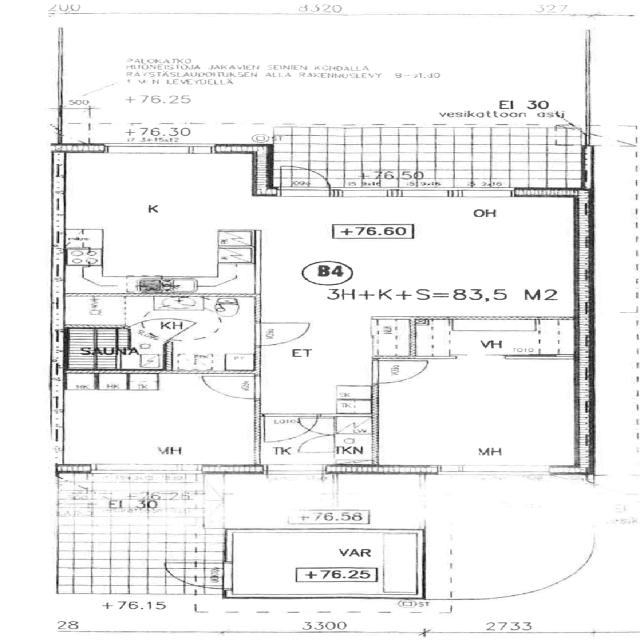door: (257, 412, 329, 446), (249, 320, 315, 348), (196, 372, 261, 400), (368, 358, 432, 386), (275, 167, 331, 194), (170, 562, 220, 590), (293, 434, 337, 455)
window: (99, 140, 222, 158), (432, 464, 564, 480), (386, 186, 526, 201)
zone: (264, 195, 589, 312), (56, 150, 257, 293), (372, 356, 582, 470), (51, 370, 258, 470), (222, 531, 425, 596), (120, 295, 260, 369), (218, 473, 356, 529), (412, 318, 580, 358), (53, 472, 215, 513), (60, 325, 148, 369), (333, 422, 378, 467)
